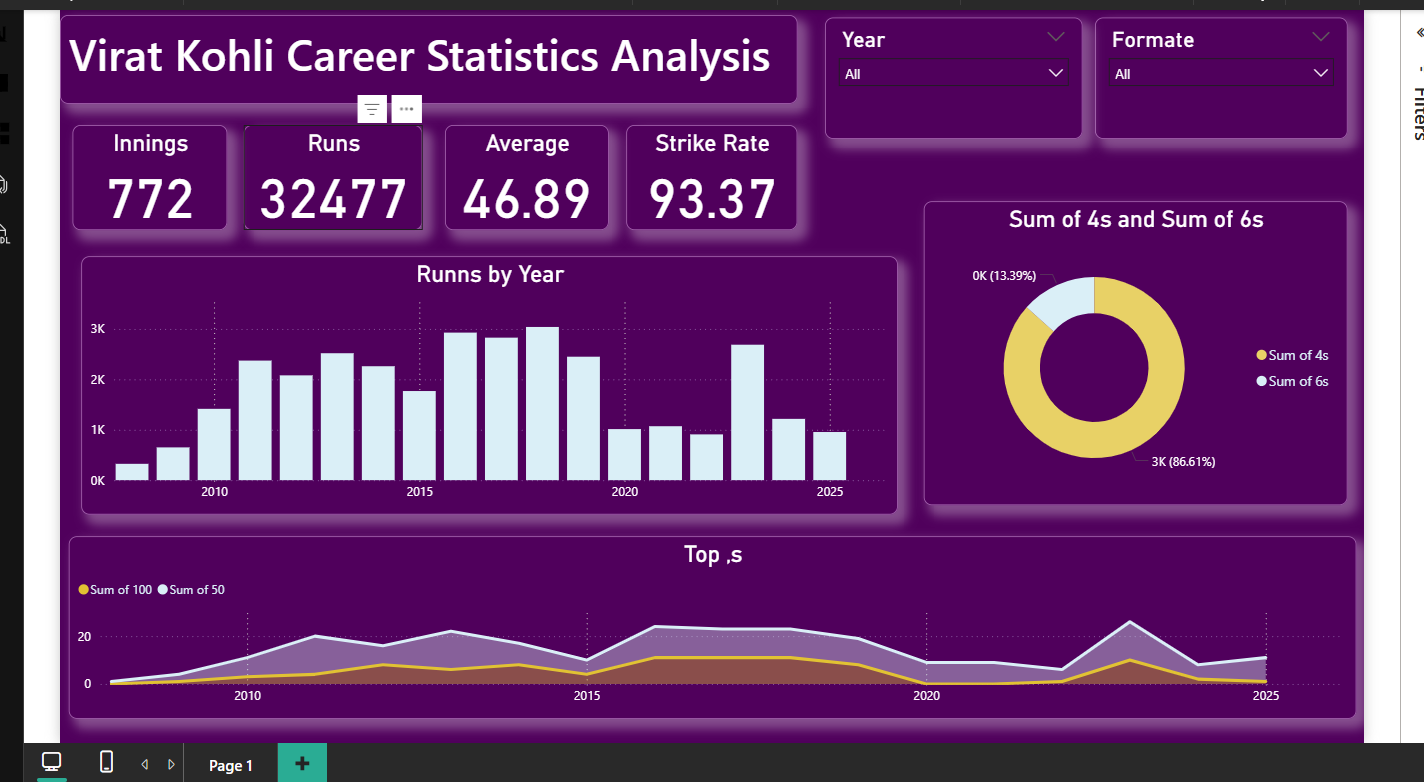

The dashboard page shown, as its layout file describes it:
{"tool":"powerbi","page":{"name":"Page 1","canvas":[1280,720],"ordinal":0},"visuals":[{"type":"textbox","box":[0,4.9,723.9,87.1],"z":0},{"type":"card","title":"Innings","fields":{"Values":["Sum(Sheet2.Innigs)"]},"box":[12.3,112.9,152.1,103.1],"z":1000},{"type":"card","title":"Runs","fields":{"Values":["Sum(Sheet2.Runns)"]},"box":[180.4,112.9,175.5,103.1],"z":2000},{"type":"card","title":"Average","fields":{"Values":["Avg(Sheet2.Avg)"]},"box":[377.9,112.9,160.7,103.1],"z":3000},{"type":"card","title":"Strike Rate","fields":{"Values":["Avg(Sheet2.SR)"]},"box":[555.8,112.9,168.1,103.1],"z":4000},{"type":"slicer","fields":{"Values":["Sheet2.Formate"]},"box":[1016,7.4,247.9,119],"z":5000},{"type":"slicer","fields":{"Values":["Sheet2.Year"]},"box":[750.9,7.4,252.8,119],"z":6000},{"type":"clusteredColumnChart","title":"Runns by Year","fields":{"Y":["Sum(Sheet2.Runns)"],"Category":["Sheet2.Year"]},"box":[20.9,241.7,801.2,254],"z":7000},{"type":"donutChart","fields":{"Y":["Sum(Sheet2.4s)","Sum(Sheet2.6s)"]},"box":[847.9,187.7,416,298.2],"z":8000},{"type":"stackedAreaChart","title":"Top ,s","fields":{"Y":["Sum(Sheet2.100)","Sum(Sheet2.50)"],"Category":["Sheet2.Year"]},"box":[8.6,516.6,1263.8,179.1],"z":9000}]}

Visuals, with their boxes on the page's 1280x720 design canvas (x1, y1, x2, y2). These are canvas units, not pixel positions in the 1424x782 screenshot, which may show the page scaled, cropped or inside an application window:
textbox: box=[0, 5, 724, 92]
"Innings" card: box=[12, 113, 164, 216]
"Runs" card: box=[180, 113, 356, 216]
"Average" card: box=[378, 113, 539, 216]
"Strike Rate" card: box=[556, 113, 724, 216]
slicer - Sheet2.Formate: box=[1016, 7, 1264, 126]
slicer - Sheet2.Year: box=[751, 7, 1004, 126]
"Runns by Year" clusteredColumnChart: box=[21, 242, 822, 496]
donutChart - Sum(Sheet2.4s) x Sum(Sheet2.6s): box=[848, 188, 1264, 486]
"Top ,s" stackedAreaChart: box=[9, 517, 1272, 696]
